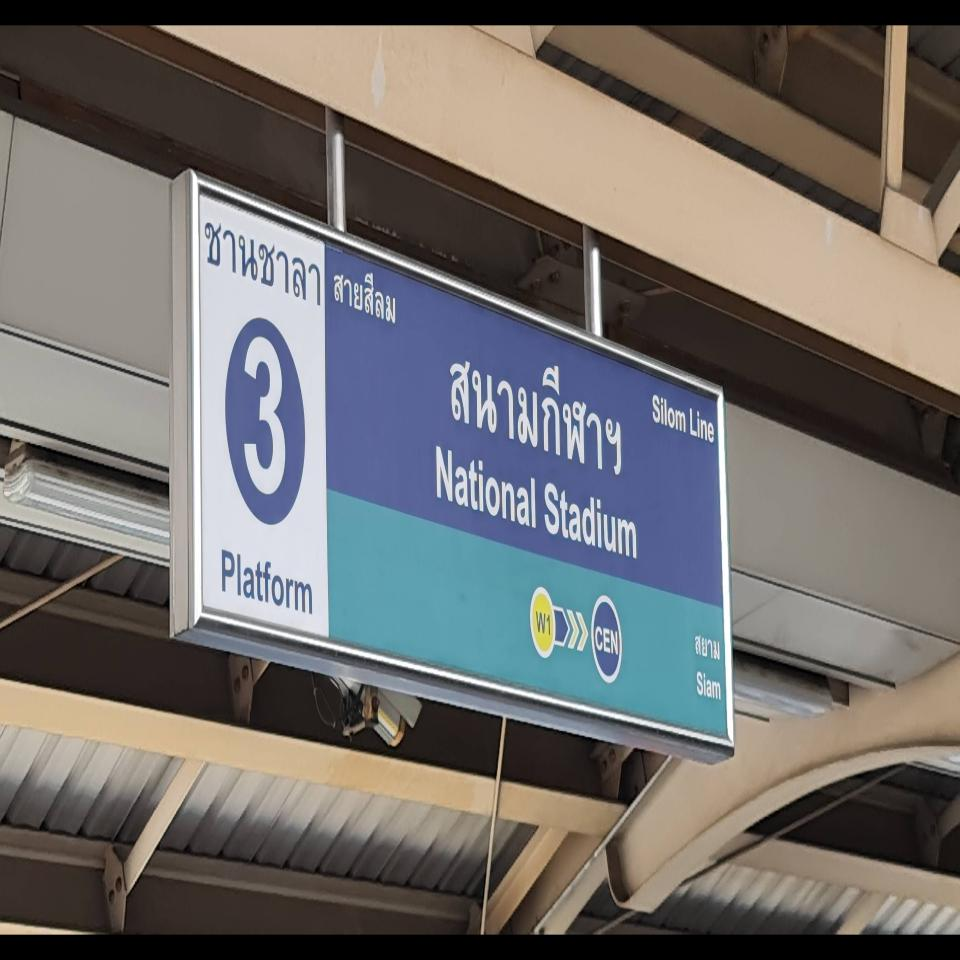signage: (435, 266, 637, 727)
